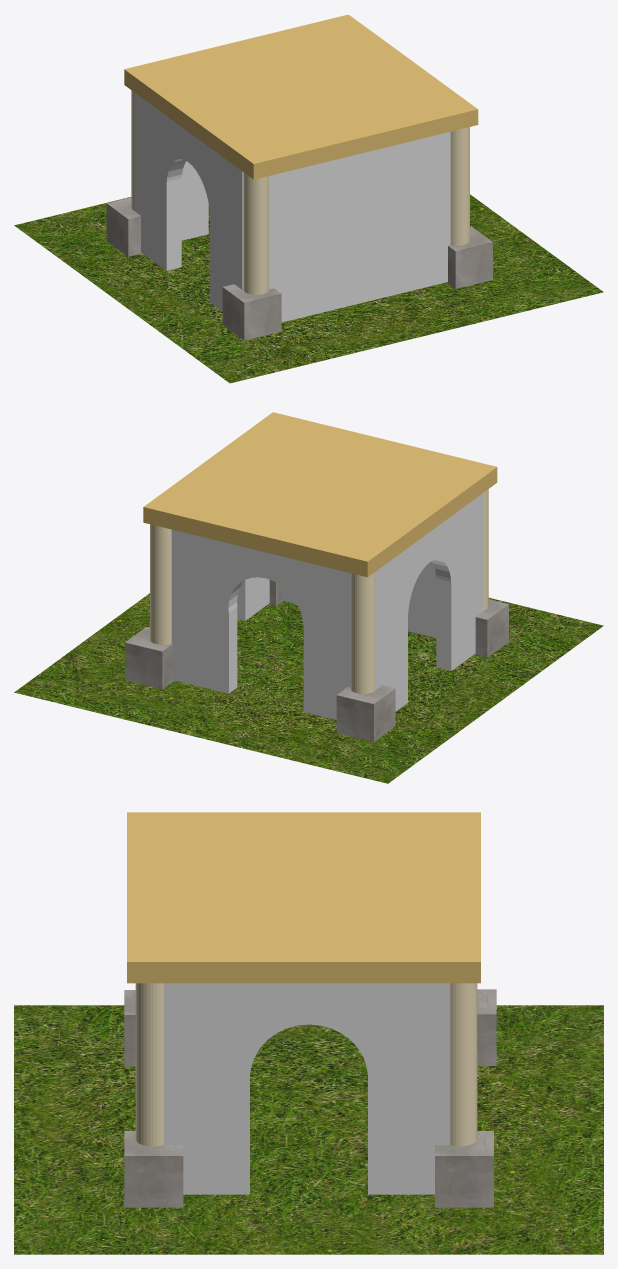
Rendered from ChunkHutTest.fbx.
3 renders of one model, top to bottom at view 1: azimuth 30°, elevation 25°; view 2: azimuth 150°, elevation 25°; view 3: azimuth 270°, elevation 25°, orthographic. The views are drawn at different scales.
Parts seen in each view (by area): view 1: Cube.006; view 2: Cube.006; view 3: Cube.006.
Part boxes in pixels (x1=…): Cube.006: x1=14, y1=14, x2=603, y2=383; Cube.006: x1=14, y1=412, x2=603, y2=783; Cube.006: x1=14, y1=812, x2=603, y2=1254.
Bounding box in the file's own units: 1000 × 446 × 1000.
